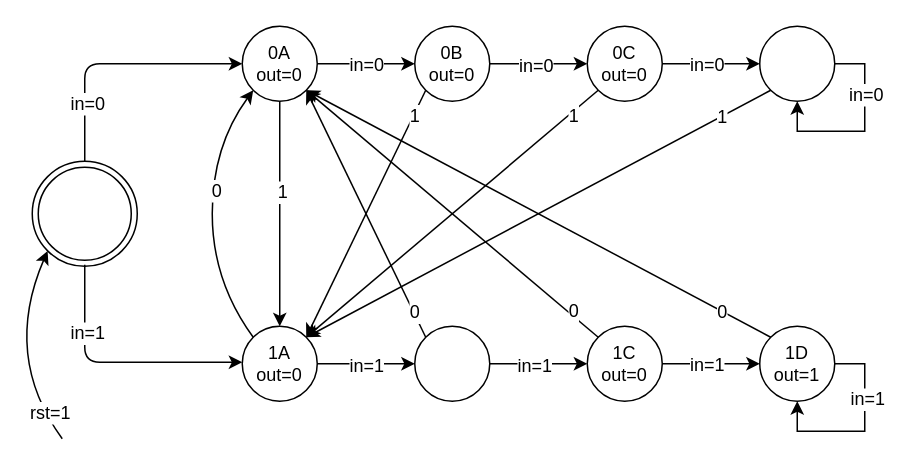
Some shapes in this 911 by 470 pixel diagram are drawn without their labels. Here are the shapes that lost their labels. From the top down, the centre of each, then its label:
At (796,63): "0D out=1".
At (84,213): "ini out=0".
At (451,363): "1B out=0".
